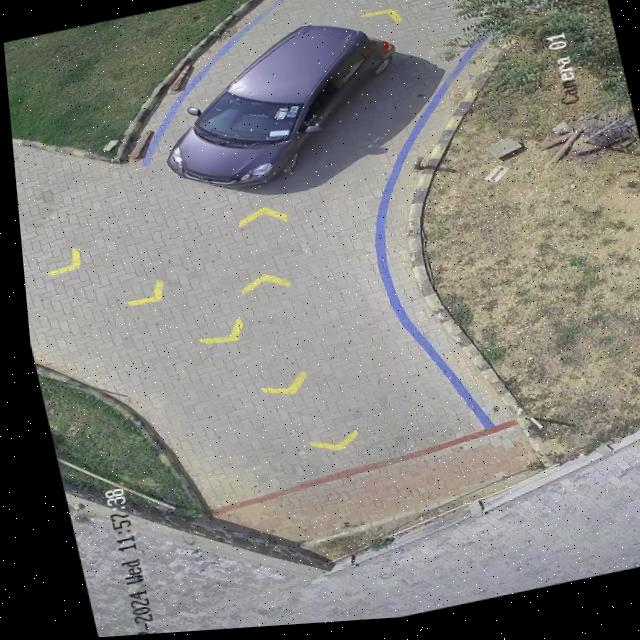car: (163, 28, 392, 189)
